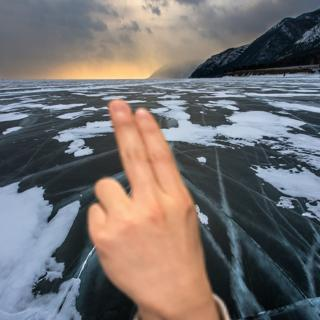DHAVE: (80, 92, 215, 310)
